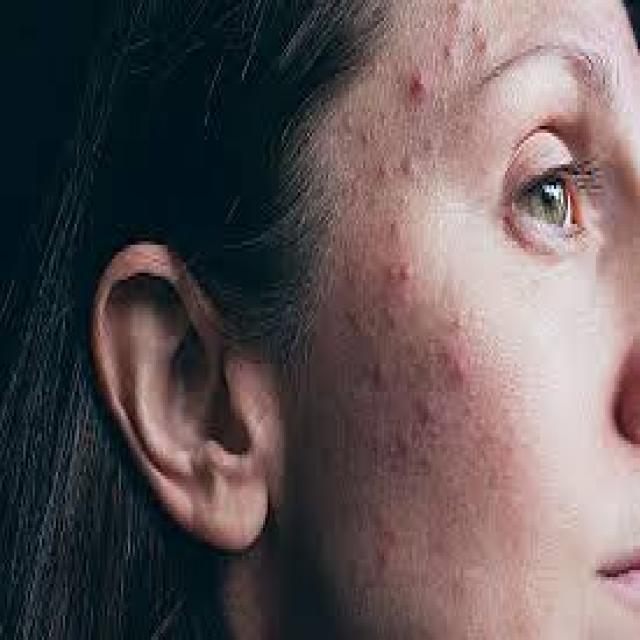Acne: (353, 234, 468, 504), (370, 0, 513, 185)
